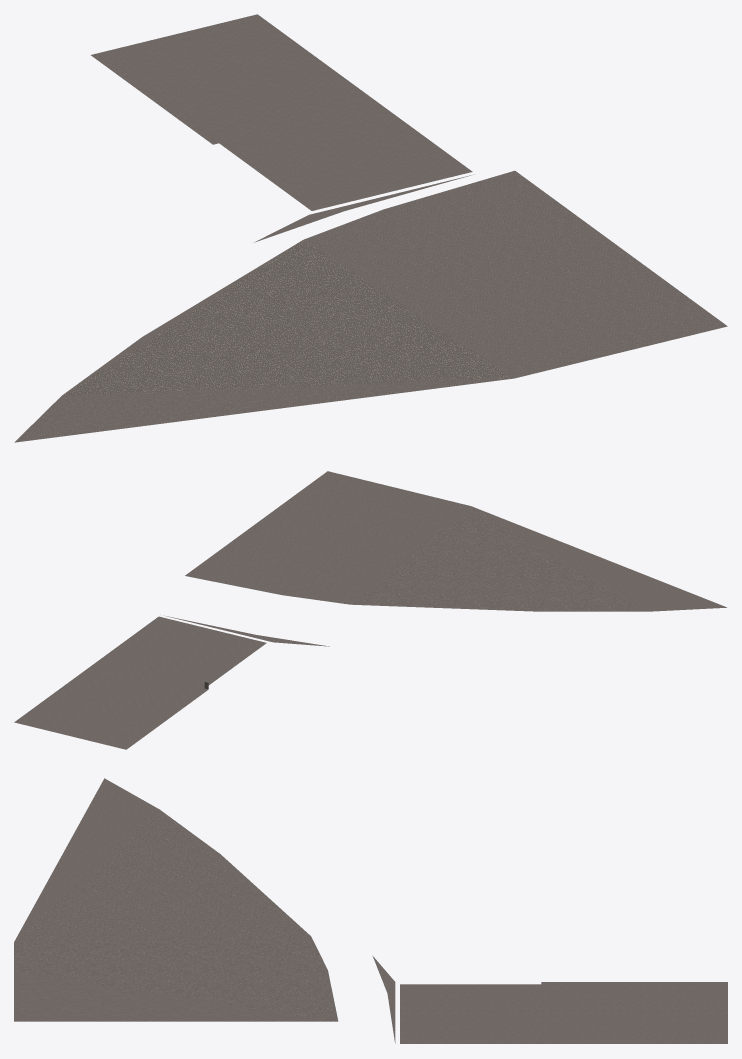
The model's file is kd_stage_135ded_0_2.glb.
3 views of the same model, one above another, from view 1: azimuth 30°, elevation 25°; view 2: azimuth 150°, elevation 25°; view 3: azimuth 270°, elevation 25° (orthographic). The views are drawn at different scales.
Visible parts, largest first — view 1: kd_stage_135ded_0_2; view 2: kd_stage_135ded_0_2; view 3: kd_stage_135ded_0_2.
Part boxes in pixels (x1=…): kd_stage_135ded_0_2: x1=14, y1=14, x2=727, y2=442; kd_stage_135ded_0_2: x1=14, y1=471, x2=726, y2=749; kd_stage_135ded_0_2: x1=14, y1=778, x2=727, y2=1043.
Bounding box in the file's own units: 70.19 × 3.11 × 87.02.
1 material, 1 textured.
